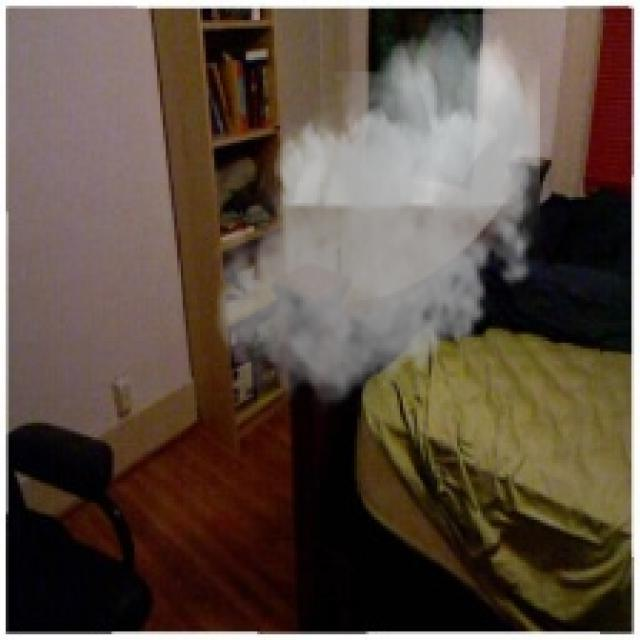Smoke: (208, 14, 554, 420)
